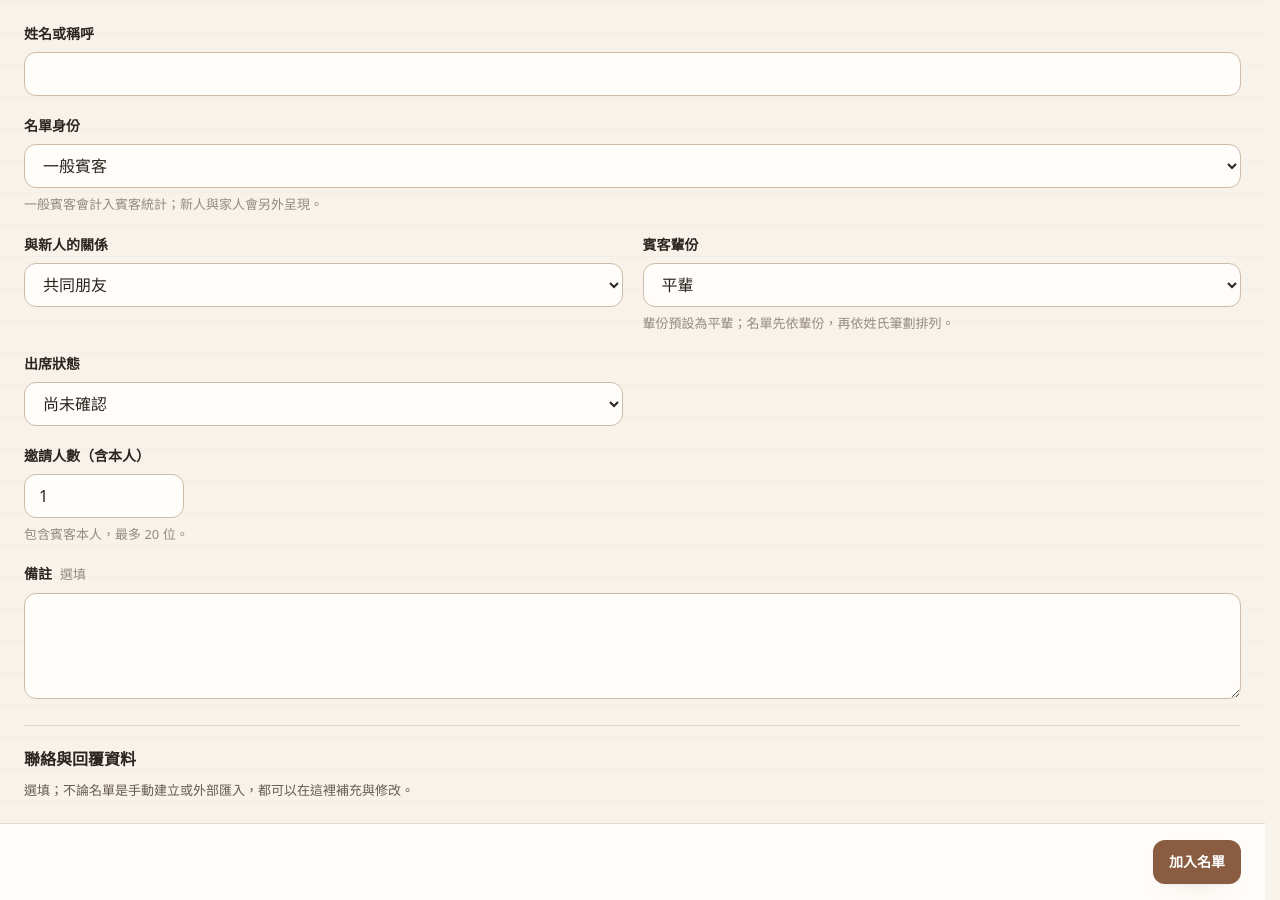
Test: guest forms › lets family include companions while keeping side-specific roles
Select "家人" in the dropdown labelled "名單身份": (632, 166) [24,144,1241,188]
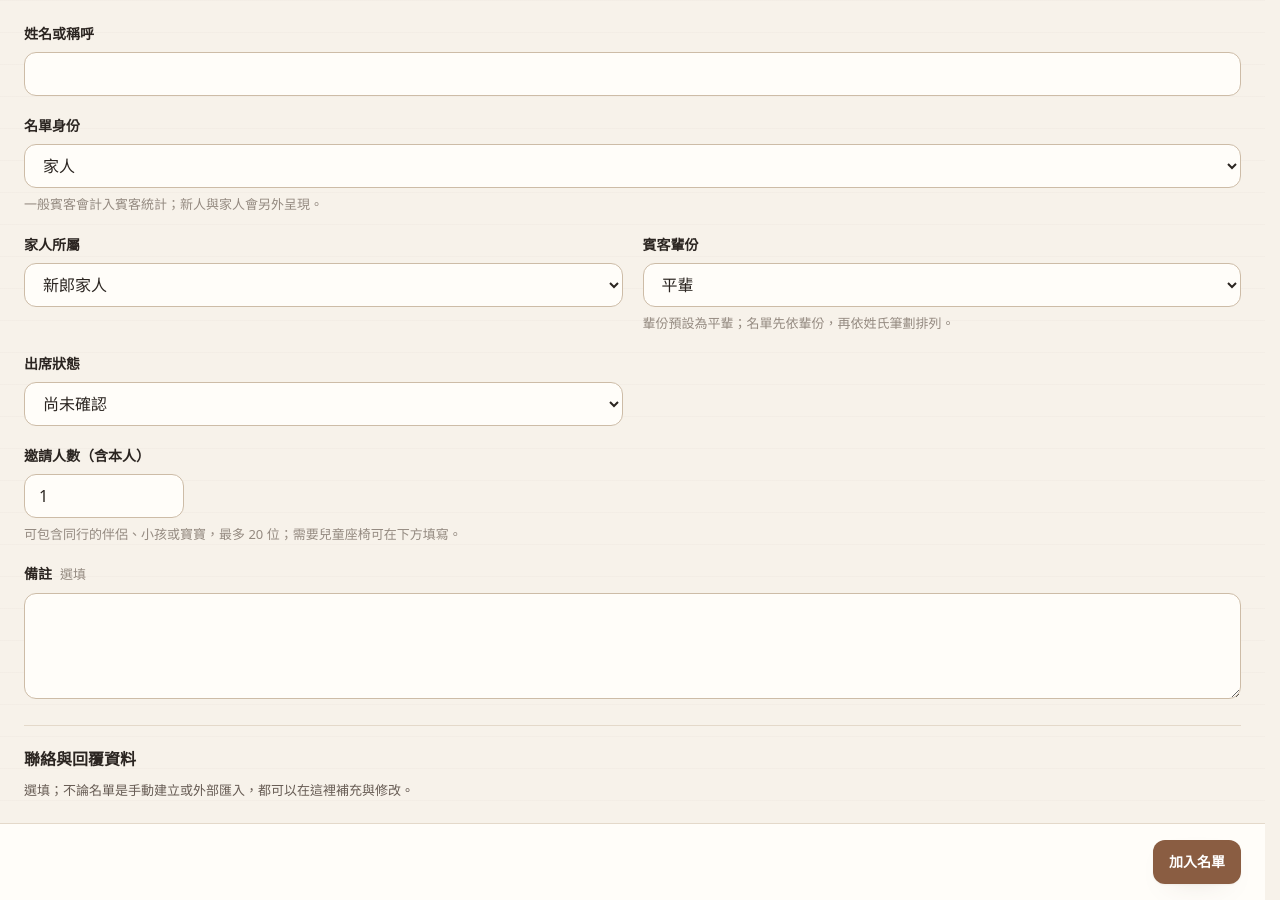
expect the number field labelled "邀請人數（含本人）" holds "1": met, box [24,474,184,518]
expect the dropdown labelled "家人所屬" shows "新郎家人": met, box [24,263,622,307]
expect the text "可包含同行的伴侶、小孩或寶寶，最多 20 位；需要兒童座椅可在下方填寫。" is shown: met, box [24,525,462,543]
